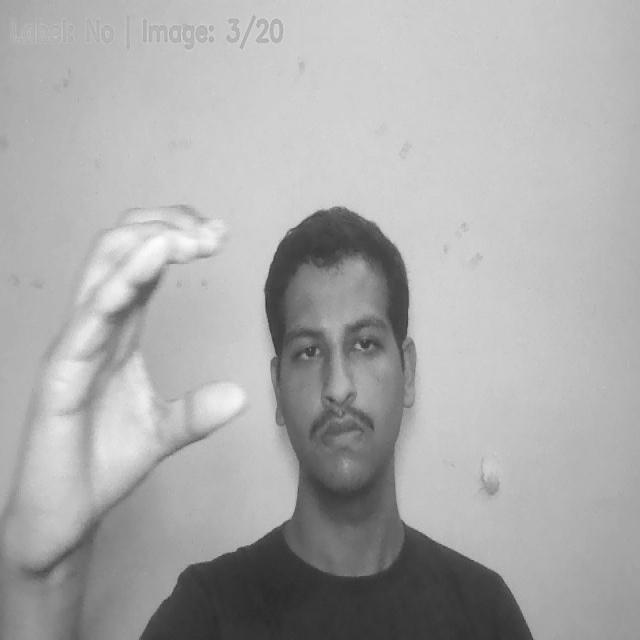No: (15, 201, 246, 584)
